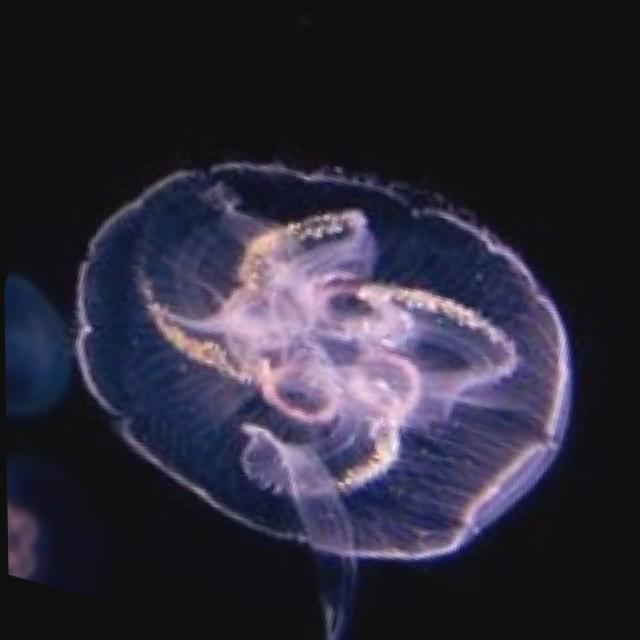Moon-jellyfish: (1, 71, 635, 640)
